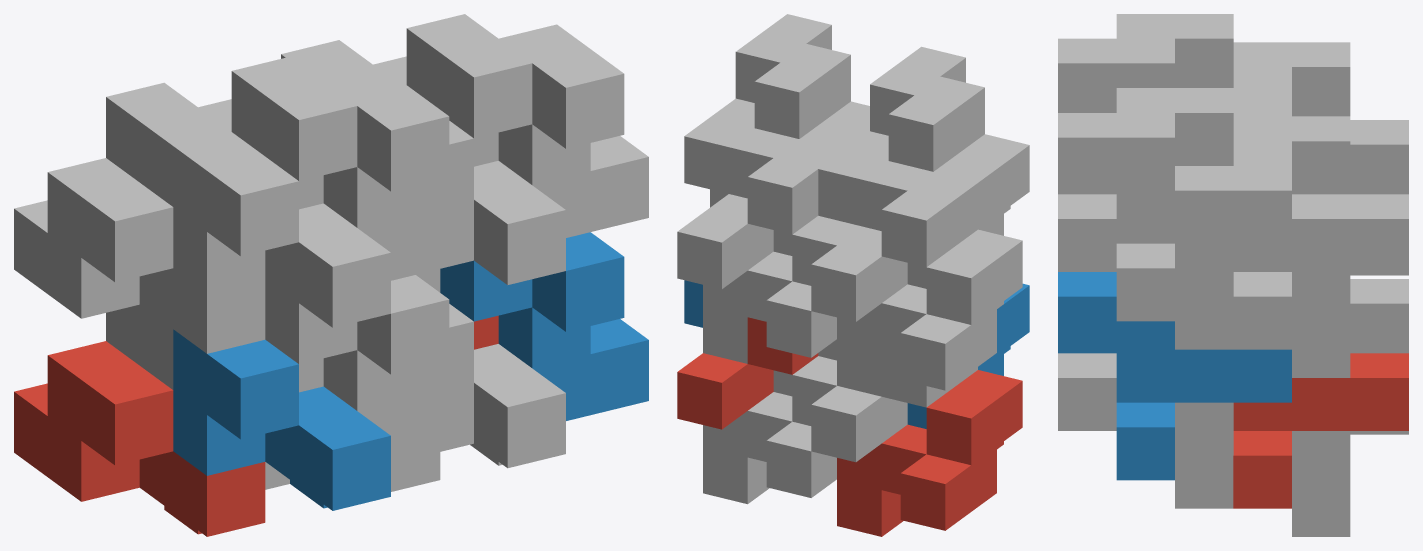
Rendered from tiling.obj.
3 views of the same model, side by side, from view 1: azimuth 30°, elevation 25°; view 2: azimuth 150°, elevation 25°; view 3: azimuth 270°, elevation 25° (orthographic). The views are drawn at different scales.
Visible parts, largest first — view 1: copy_2_domain_8, copy_2_domain_4, copy_1_domain_4, copy_1_domain_1, copy_1_domain_3, copy_1_domain_2, copy_2_domain_6, copy_2_domain_2, copy_1_domain_6, copy_1_domain_8, copy_2_domain_3, copy_2_domain_1 (+2 smaller); view 2: copy_1_domain_1, copy_1_domain_3, copy_2_domain_3, copy_2_domain_8, copy_2_domain_4, copy_2_domain_7, copy_1_domain_5, copy_1_domain_7, copy_2_domain_1, copy_2_domain_5, copy_1_domain_4, copy_1_domain_8 (+3 smaller); view 3: copy_2_domain_8, copy_2_domain_7, copy_2_domain_6, copy_2_domain_4, copy_2_domain_5, copy_2_domain_3, copy_1_domain_6, copy_1_domain_8, copy_1_domain_5, copy_1_domain_7, copy_2_domain_1.
Part boxes in pixels (<box>): copy_2_domain_8: <box>406,14,648,237</box>; copy_2_domain_4: <box>231,56,473,280</box>; copy_1_domain_4: <box>173,132,390,327</box>; copy_1_domain_1: <box>14,341,265,536</box>; copy_1_domain_3: <box>14,158,265,353</box>; copy_1_domain_2: <box>173,329,390,510</box>; copy_2_domain_6: <box>440,232,648,420</box>; copy_2_domain_2: <box>265,275,473,463</box>; copy_1_domain_6: <box>415,304,565,468</box>; copy_1_domain_8: <box>415,121,565,284</box>; copy_2_domain_3: <box>106,82,323,209</box>; copy_2_domain_1: <box>106,304,323,489</box>; copy_1_domain_1: <box>837,370,1022,536</box>; copy_1_domain_3: <box>837,229,1022,396</box>; copy_2_domain_3: <box>811,161,977,321</box>; copy_2_domain_8: <box>684,14,850,193</box>; copy_2_domain_4: <box>818,46,984,226</box>; copy_2_domain_7: <box>677,128,843,289</box>; copy_1_domain_5: <box>703,356,836,504</box>; copy_1_domain_7: <box>703,215,862,363</box>; copy_2_domain_1: <box>811,350,977,462</box>; copy_2_domain_5: <box>677,317,818,429</box>; copy_1_domain_4: <box>907,134,1029,288</box>; copy_1_domain_8: <box>710,101,869,255</box>; copy_2_domain_8: <box>1058,88,1291,321</box>; copy_2_domain_7: <box>1233,116,1408,349</box>; copy_2_domain_6: <box>1058,272,1291,480</box>; copy_2_domain_4: <box>1058,14,1291,116</box>; copy_2_domain_5: <box>1233,353,1408,508</box>; copy_2_domain_3: <box>1233,42,1408,194</box>; copy_1_domain_6: <box>1058,353,1233,508</box>; copy_1_domain_8: <box>1058,194,1233,349</box>; copy_1_domain_5: <box>1292,431,1408,536</box>; copy_1_domain_7: <box>1292,272,1408,377</box>; copy_2_domain_1: <box>1350,279,1408,353</box>.
Bounding box in the file's own units: 8 × 8 × 6.
